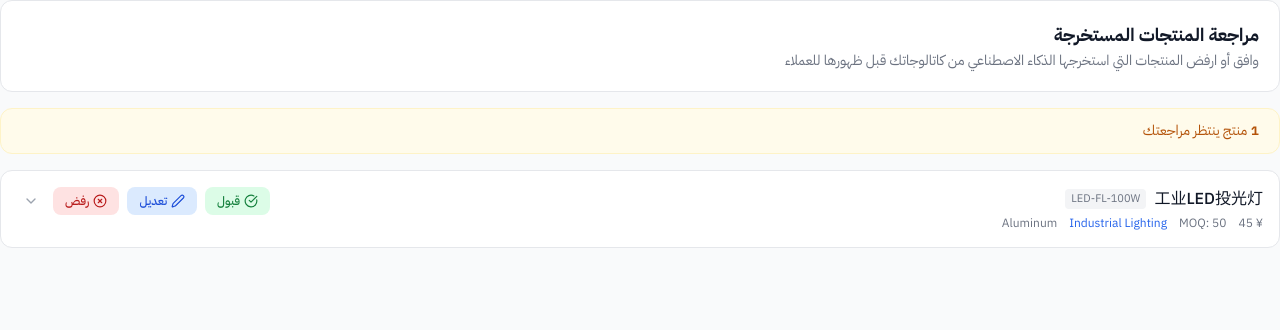
it: ProductReviewPage › expanding a card reveals additional details (weight, dimensions, source document)
Expected: the text "工业LED投光灯" is shown, [1154,187,1263,211]
Click the 1st button at (31, 201), box [17,187,45,215]
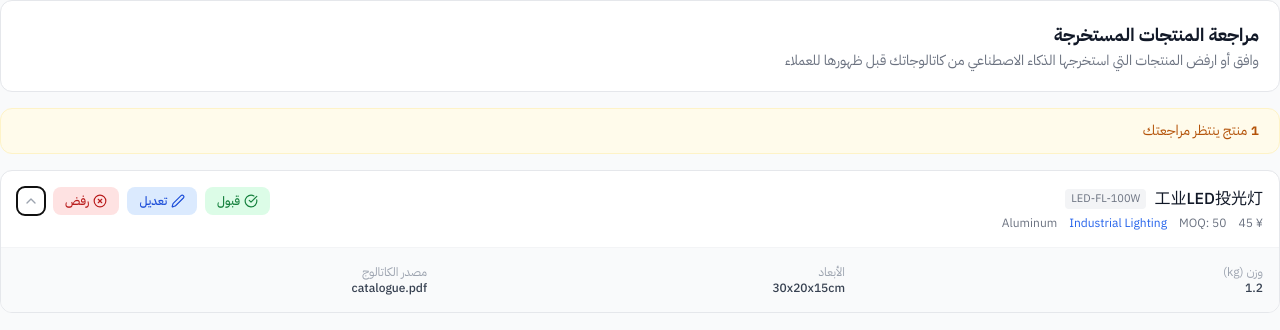
Expected: the text "30x20x15cm" is shown, [772,279,845,297]
Expected: the text "catalogue.pdf" is shown, [352,279,427,297]
